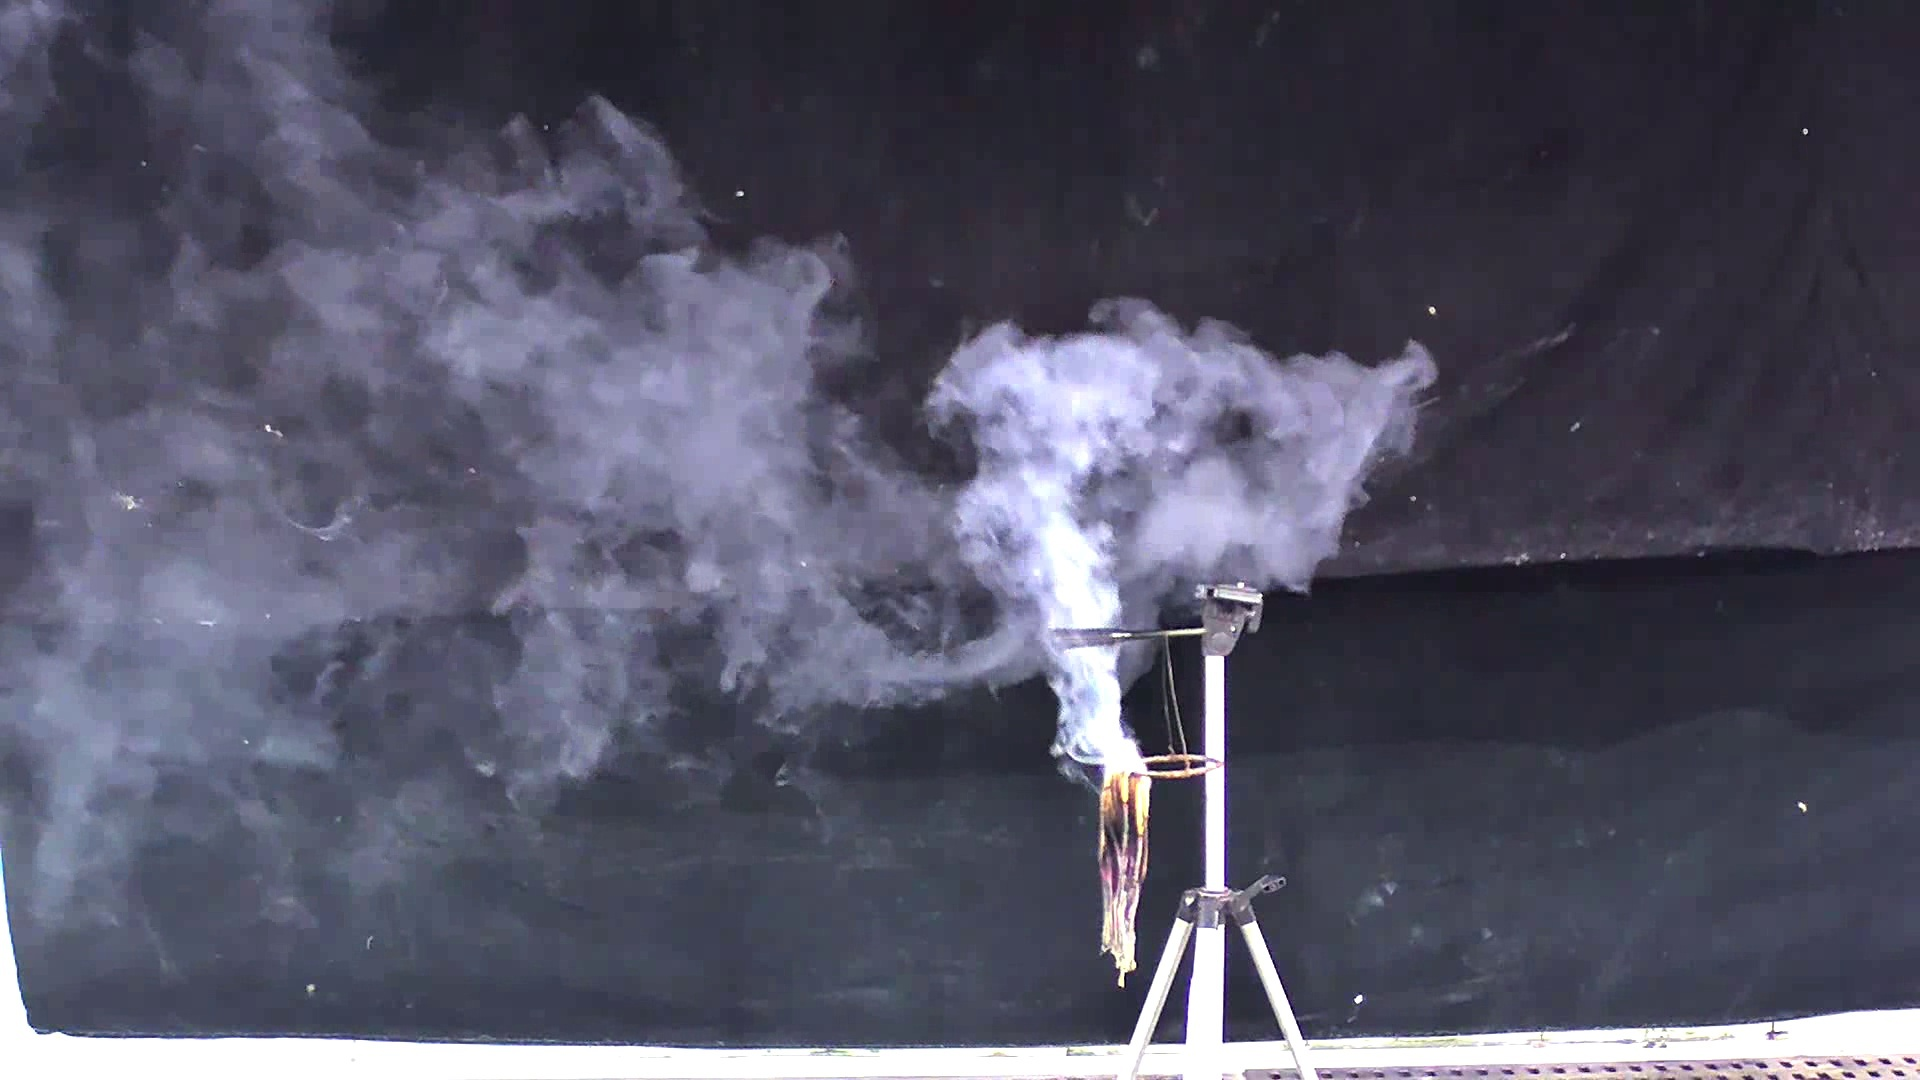smoke: (456, 80, 1462, 791)
